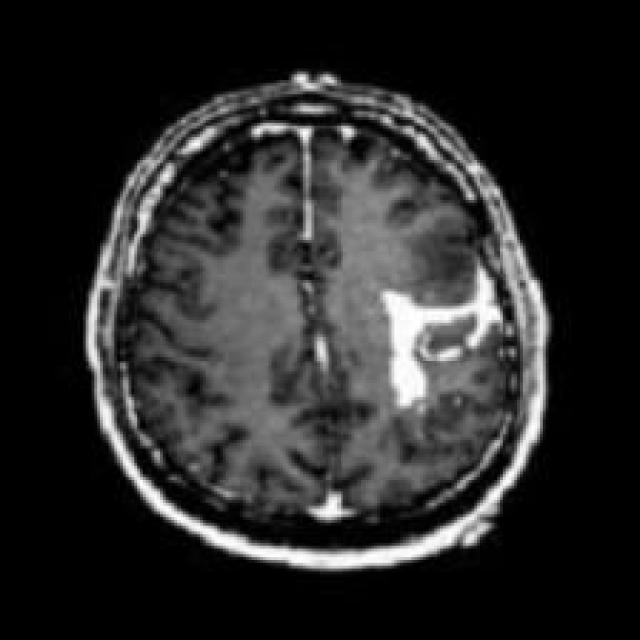Tumor: (380, 268, 503, 408)
